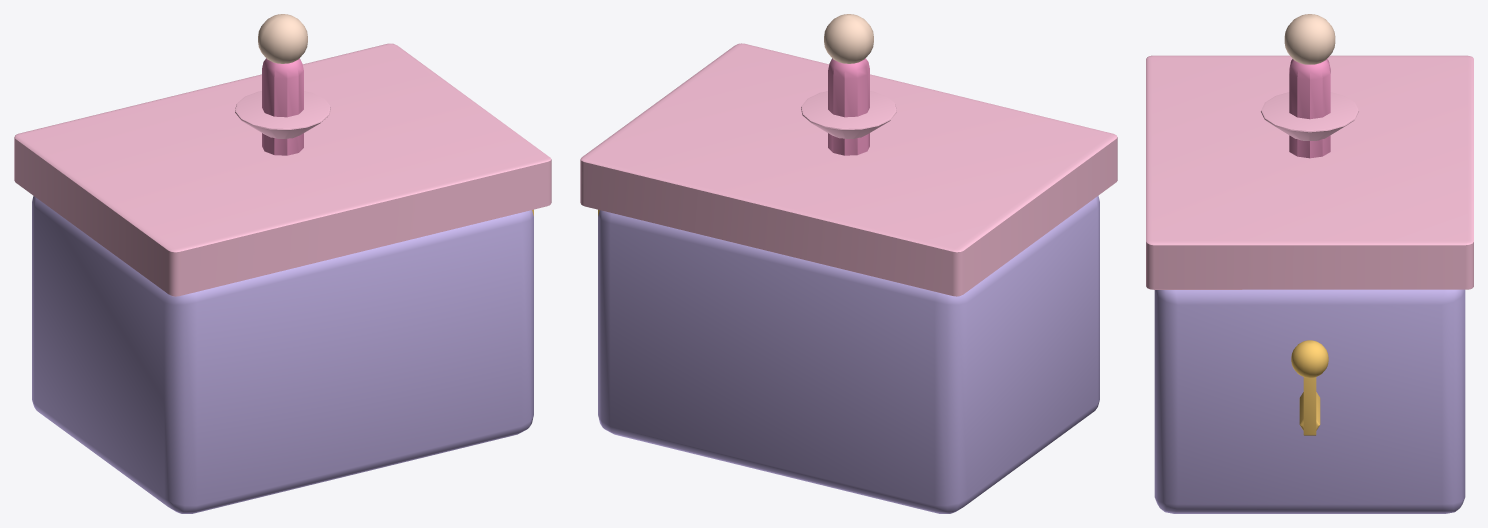
File: object-music-box.glb
The picture shows the model from 3 angles, left to right: view 1: azimuth 30°, elevation 25°; view 2: azimuth 150°, elevation 25°; view 3: azimuth 270°, elevation 25°; orthographic projection.
Visible parts, largest first — view 1: Node_0-mesh, part-lid-mesh, part-dancer-mesh; view 2: Node_0-mesh, part-lid-mesh, part-dancer-mesh; view 3: part-lid-mesh, Node_0-mesh, part-dancer-mesh, part-crank-mesh.
Boxes of the visible parts, x1,y1,x2,y2 form: Node_0-mesh: (32, 196, 533, 513); part-lid-mesh: (14, 43, 551, 296); part-dancer-mesh: (235, 14, 330, 155); Node_0-mesh: (598, 195, 1099, 513); part-lid-mesh: (580, 43, 1117, 296); part-dancer-mesh: (801, 14, 896, 155); part-lid-mesh: (1146, 55, 1473, 289); Node_0-mesh: (1154, 289, 1465, 513); part-dancer-mesh: (1261, 14, 1358, 158); part-crank-mesh: (1291, 340, 1328, 435).
Size of the model in its own units: 1.12 by 0.954 by 0.684.
